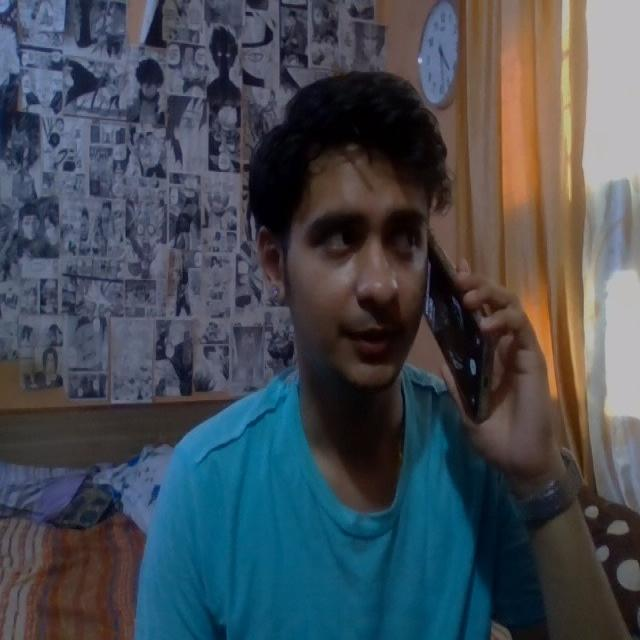oncall: (255, 72, 572, 500)
phone: (416, 232, 504, 431)
